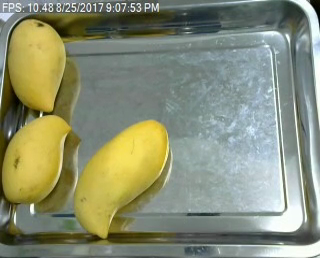Mango: (72, 119, 170, 238), (0, 112, 73, 204), (7, 18, 66, 112)
